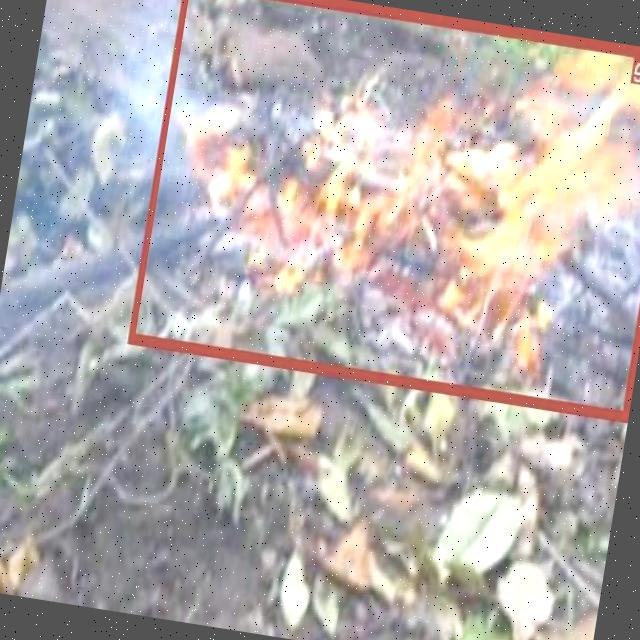fire: (129, 0, 640, 418)
